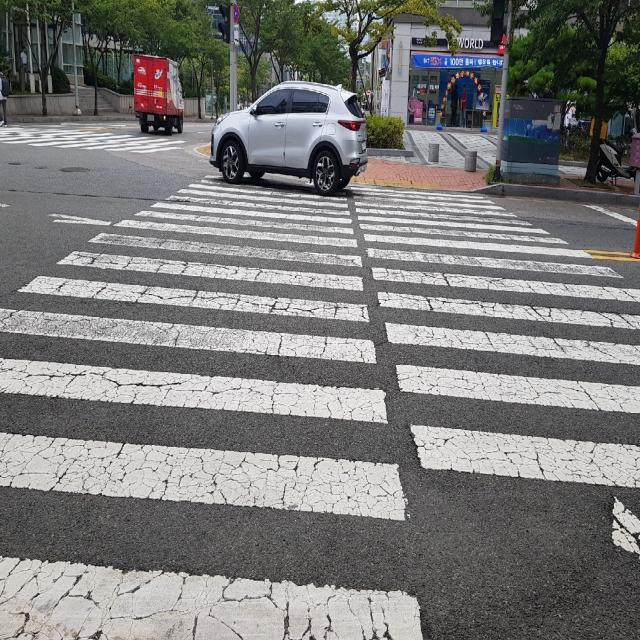횡단보도: (0, 167, 640, 640), (0, 125, 189, 156)
